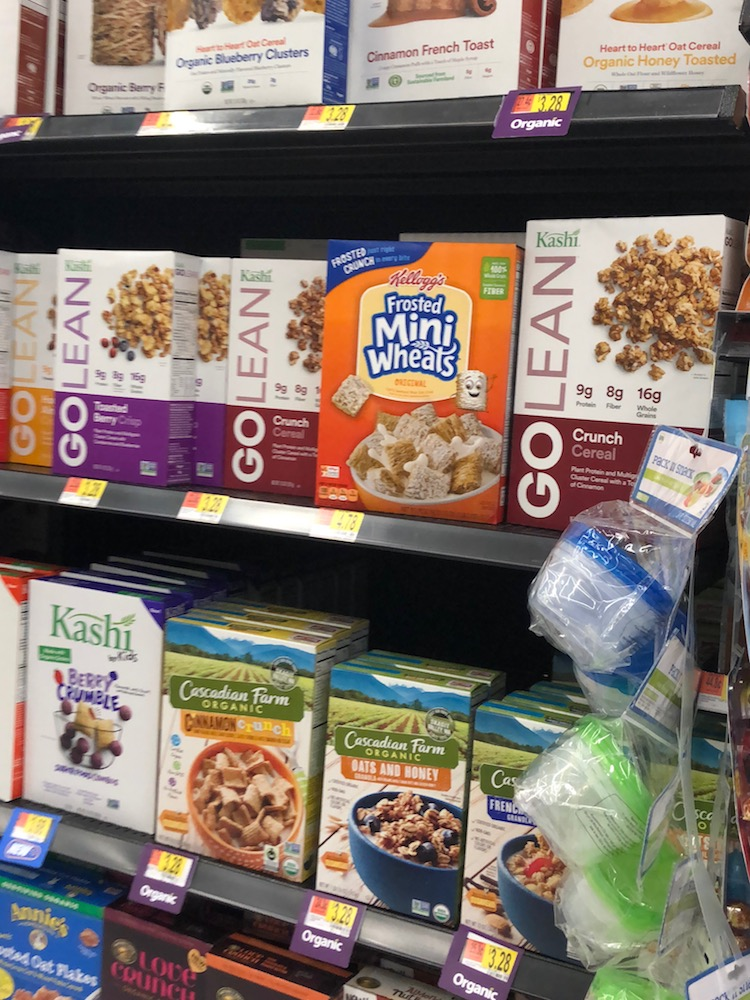Frosted Mini Original -9295869: (323, 243, 515, 529)
